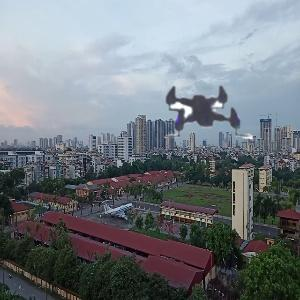drone: (127, 37, 279, 189)
